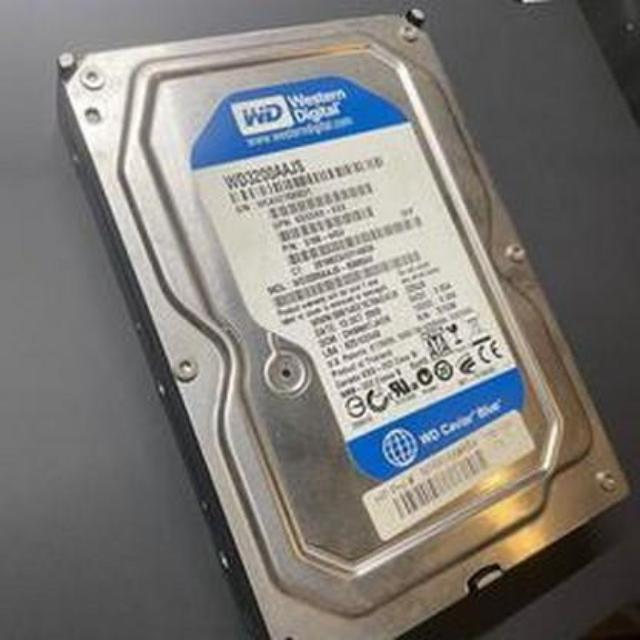DISK: (71, 15, 640, 640)
